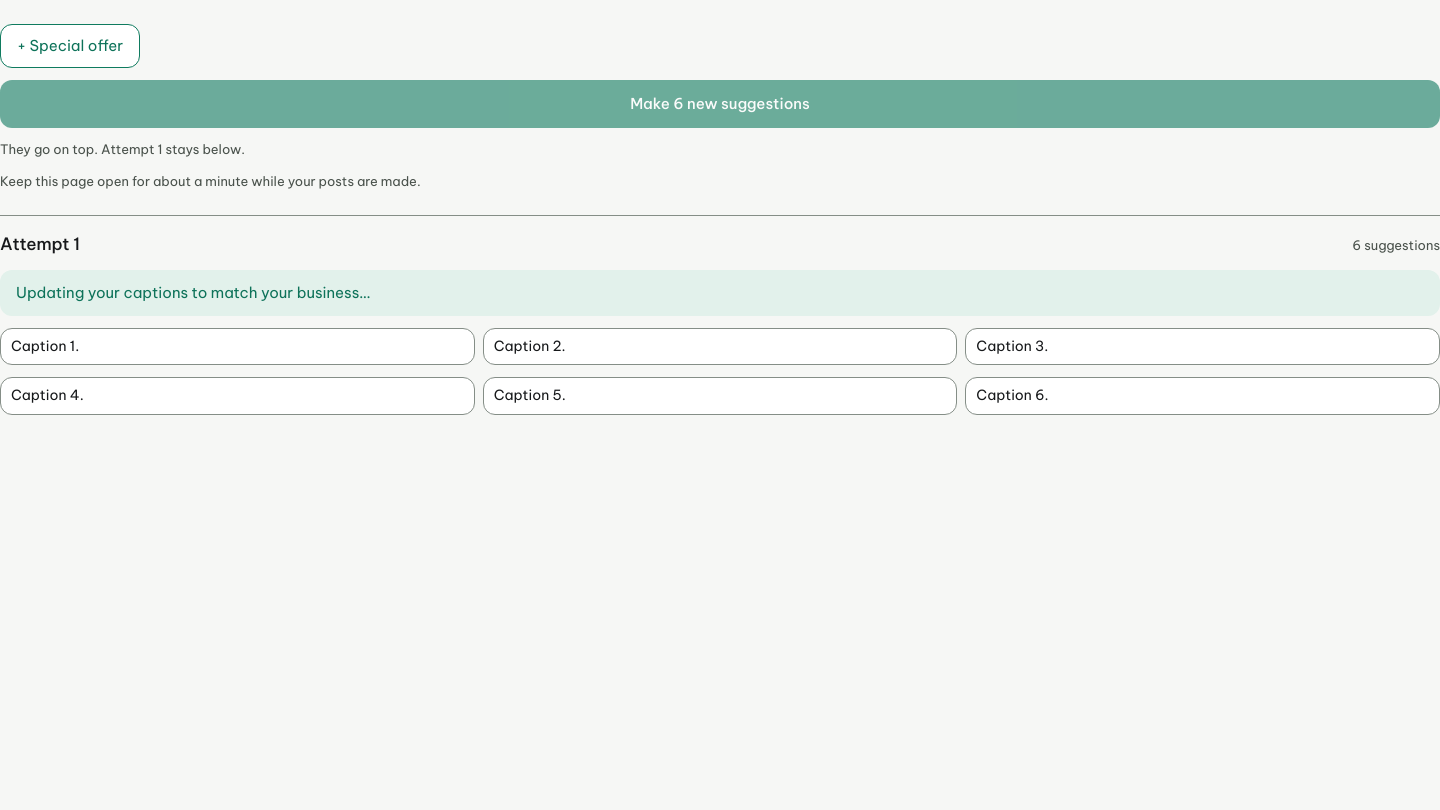
captions follow the business by themselves › the posts' buttons wait with the update while the search runs
expect the text "Updating your captions to match your business…" is shown: met, box top-left (0, 270), bottom-right (1439, 316)
expect the button "Make 6 new suggestions" is disabled: met, box top-left (0, 80), bottom-right (1439, 128)
Click the button "Caption 1." at (237, 347), box top-left (0, 328), bottom-right (475, 365)
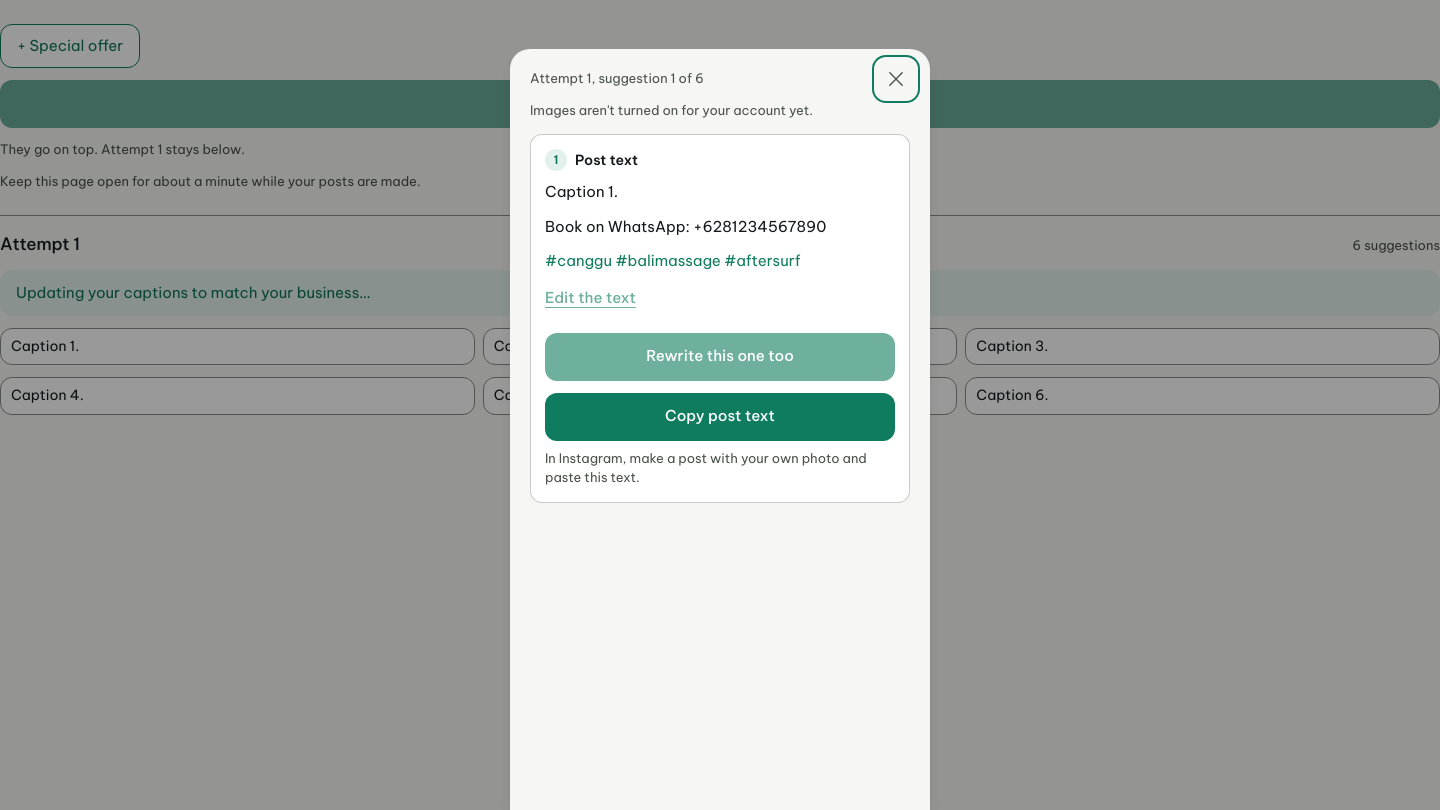
expect the button "Edit the text" is disabled: met, box top-left (545, 277), bottom-right (636, 321)
expect the button "Rewrite this one too" is disabled: met, box top-left (545, 333), bottom-right (895, 381)
